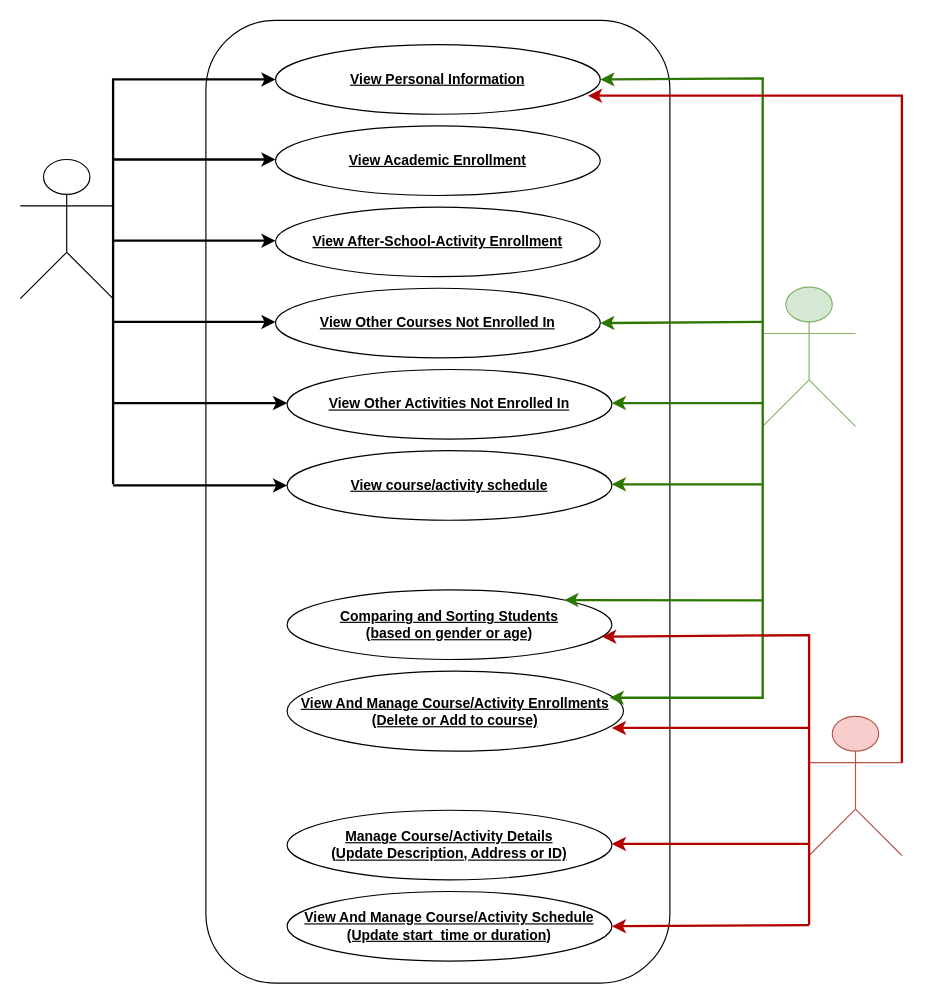
Some shapes in this 933 by 1003 pixel diagram are drawn without their labels. The shapes that lost their labels are listed below. From the top down, each one's centre as x and y in pixels, then its label:
the point at 66,228: Student
the point at 808,356: Parent
the point at 855,785: Teacher/Instructor
